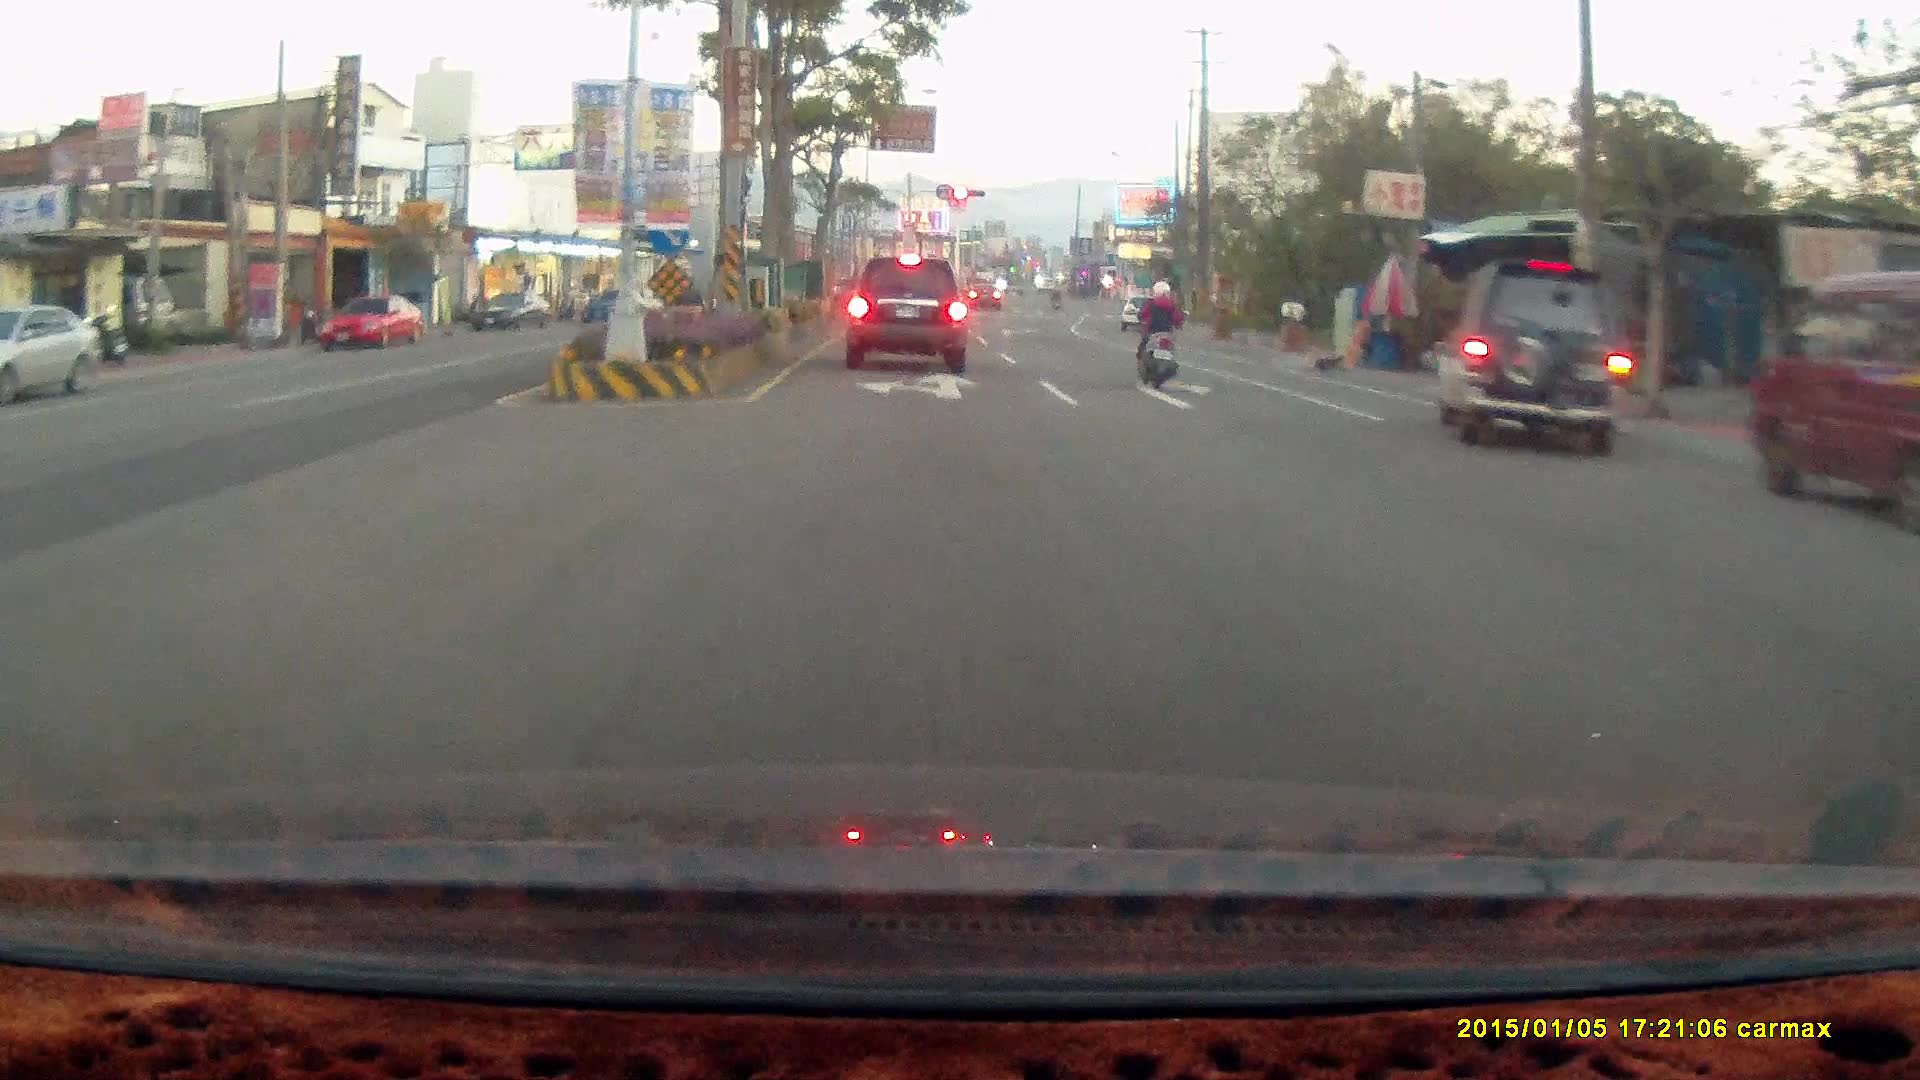rider: (1133, 276, 1183, 387)
vehicle: (1745, 266, 1920, 530), (1752, 264, 1920, 527), (1431, 256, 1631, 455), (1435, 255, 1631, 453), (842, 254, 968, 373), (1, 303, 104, 406), (0, 303, 101, 406), (1896, 493, 1920, 836), (318, 294, 429, 353), (317, 293, 424, 350), (1883, 528, 1920, 690), (477, 290, 552, 338), (1119, 293, 1171, 331)
